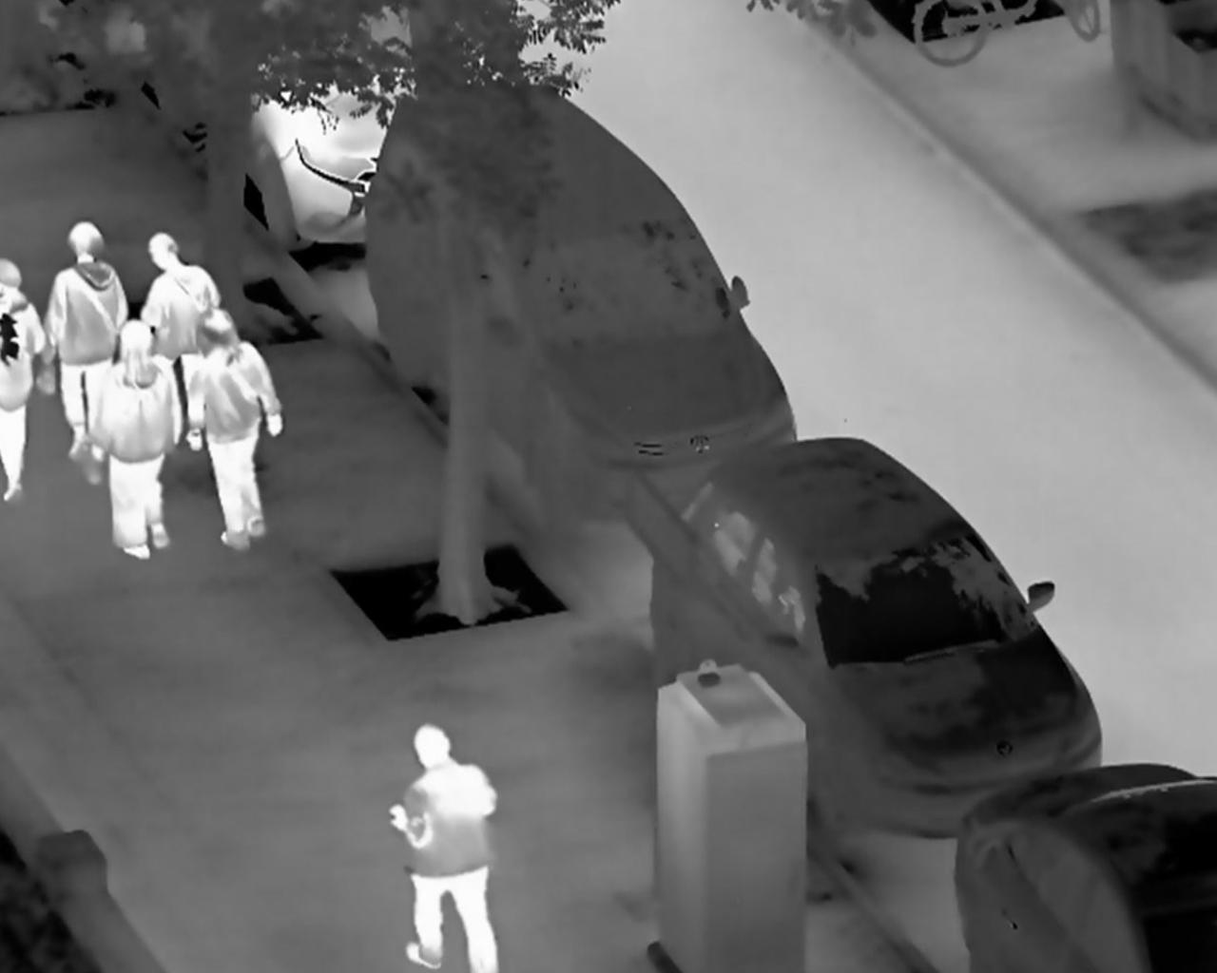person: (382, 720, 506, 973), (68, 318, 182, 562), (180, 308, 286, 553), (40, 219, 130, 489), (138, 233, 227, 452)
